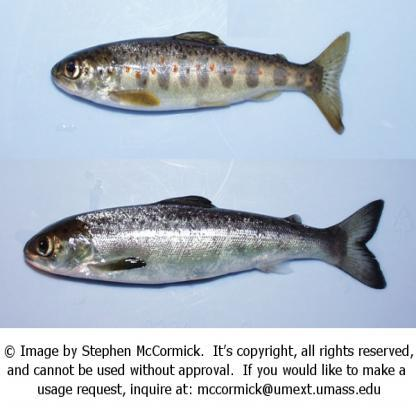fish: (23, 193, 388, 290), (48, 25, 351, 132)
